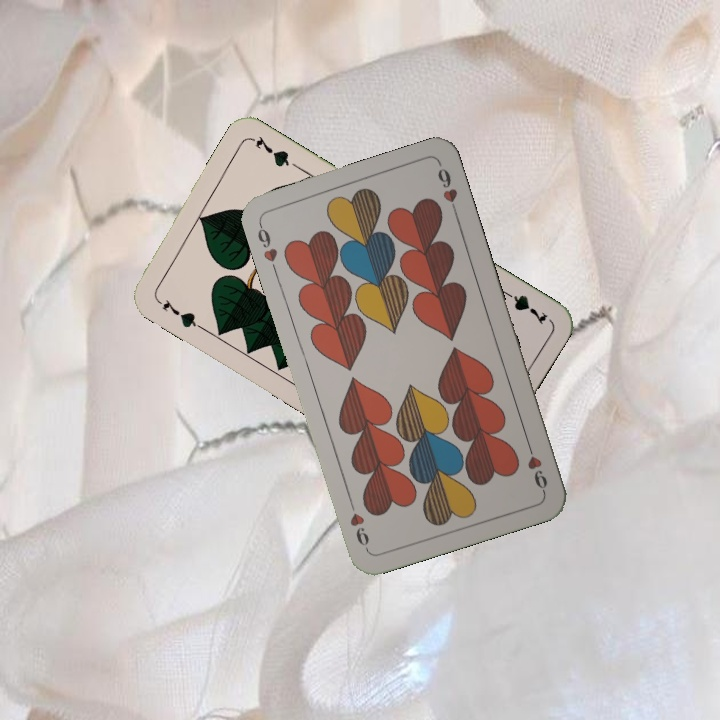G7: (497, 285, 550, 328), (152, 294, 205, 332)
H9: (522, 437, 550, 495), (253, 218, 280, 265)
